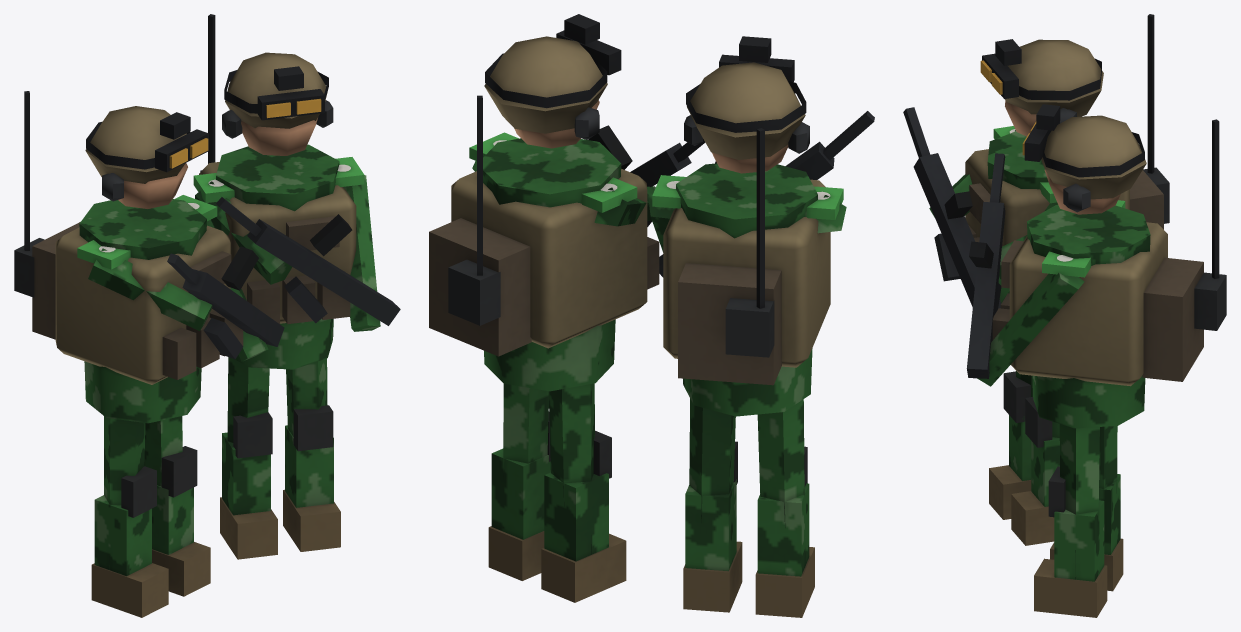
File: sentry_dl7_green.glb
3 views of the same model, side by side, from view 1: azimuth 30°, elevation 25°; view 2: azimuth 150°, elevation 25°; view 3: azimuth 270°, elevation 25° (orthographic). The views are drawn at different scales.
Visible parts, largest first — view 1: sentry_dl7_green; view 2: sentry_dl7_green; view 3: sentry_dl7_green.
Boxes of the visible parts, x1,y1,x2,y2 form: sentry_dl7_green: [14, 14, 400, 617]; sentry_dl7_green: [429, 14, 874, 617]; sentry_dl7_green: [903, 14, 1226, 617].
Size of the model in its own units: 0.2548 by 0.3857 by 0.2361.
1 material, 1 textured.
